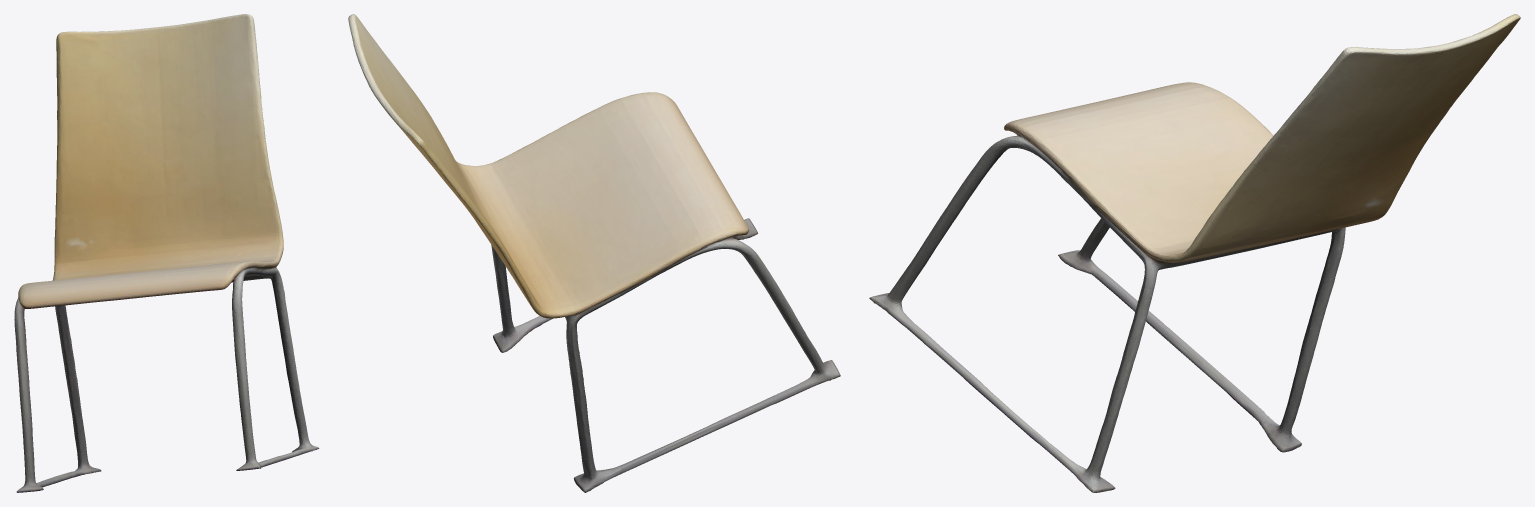
File: light-colored_wooden_chair_at_back_row_left_table_(left)_000.glb
3 renders of one model, left to right at view 1: azimuth 30°, elevation 25°; view 2: azimuth 150°, elevation 25°; view 3: azimuth 270°, elevation 25°, orthographic. The views are drawn at different scales.
Parts seen in each view (by area): view 1: light-colored_wooden_chair_at_back_row_left_table_(left)_000; view 2: light-colored_wooden_chair_at_back_row_left_table_(left)_000; view 3: light-colored_wooden_chair_at_back_row_left_table_(left)_000.
Part boxes in pixels (x1,y1,x2,y2): light-colored_wooden_chair_at_back_row_left_table_(left)_000: [14, 14, 319, 492]; light-colored_wooden_chair_at_back_row_left_table_(left)_000: [348, 14, 840, 492]; light-colored_wooden_chair_at_back_row_left_table_(left)_000: [869, 14, 1520, 492].
Bounding box in the file's own units: 0.3539 × 0.3968 × 0.451.
Materials: 1 (1 with a texture image).
